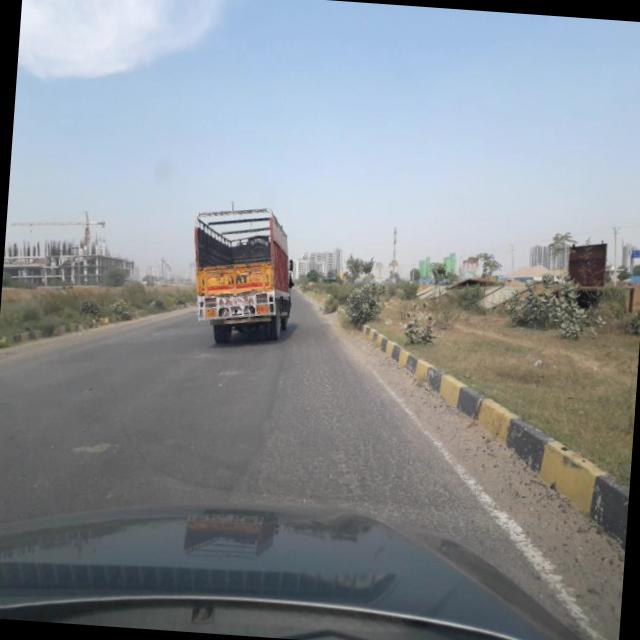crack: (261, 356, 530, 534)
